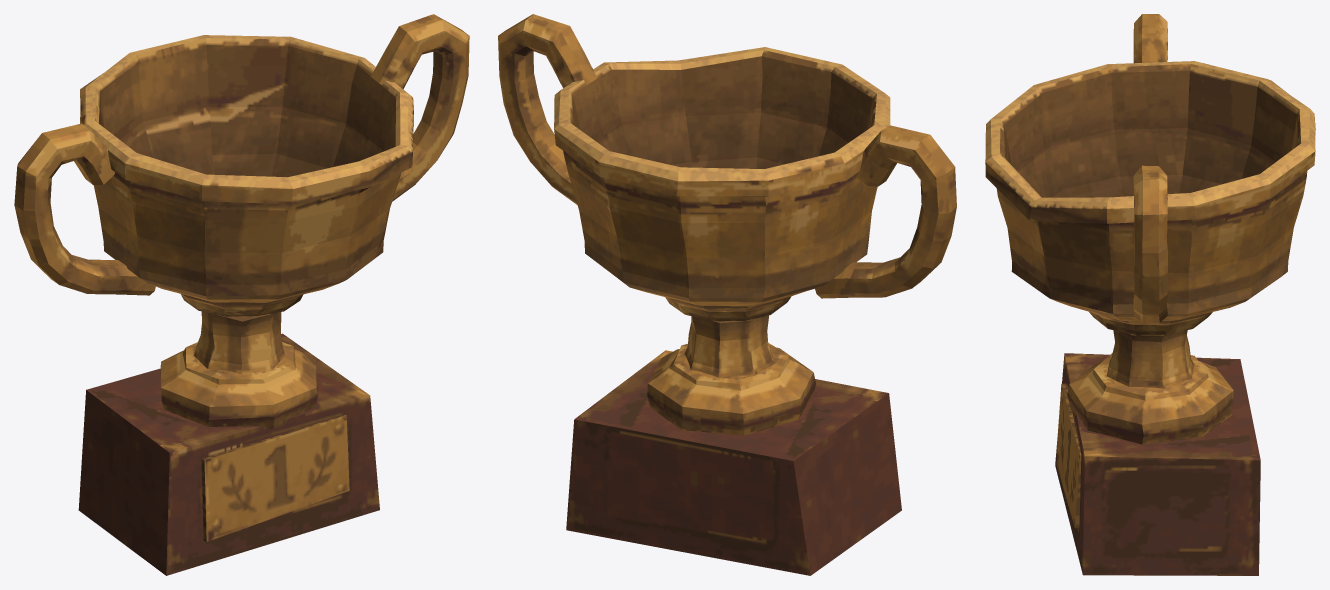
The model's file is CI10_SchoolTrophy.fbx.
The picture shows the model from 3 angles, left to right: view 1: azimuth 30°, elevation 25°; view 2: azimuth 150°, elevation 25°; view 3: azimuth 270°, elevation 25°; orthographic projection. The views are drawn at different scales.
Visible parts, largest first — view 1: CI10_SchoolTrophy; view 2: CI10_SchoolTrophy; view 3: CI10_SchoolTrophy.
Part boxes in pixels (box(x1,y1,x2,y2)): CI10_SchoolTrophy: box(14, 14, 469, 575); CI10_SchoolTrophy: box(498, 14, 956, 575); CI10_SchoolTrophy: box(985, 14, 1315, 575).
Bounding box in the file's own units: 0.2212 × 0.2107 × 0.1431.
Materials: 1 (1 with a texture image).
